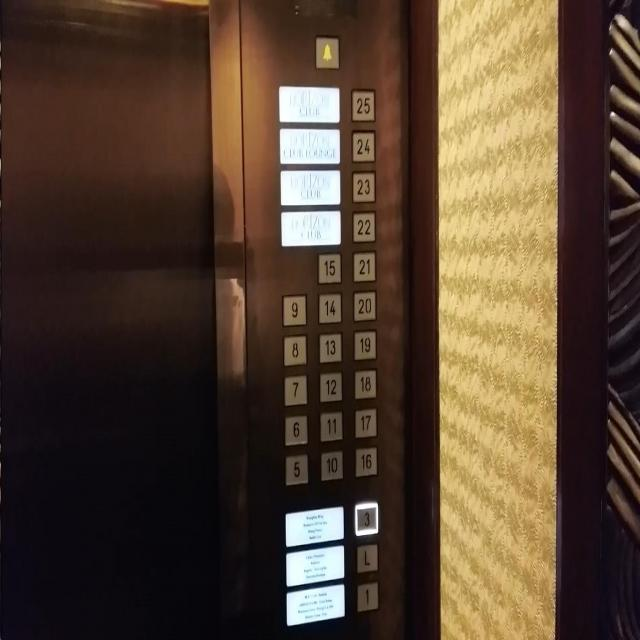1: (356, 579, 379, 612)
10: (319, 447, 343, 480)
11: (318, 407, 343, 441)
12: (318, 367, 342, 401)
13: (317, 329, 343, 363)
14: (316, 288, 342, 325)
15: (315, 247, 342, 285)
16: (353, 443, 378, 476)
17: (353, 403, 378, 439)
18: (352, 363, 378, 402)
19: (351, 326, 378, 361)
20: (351, 286, 378, 322)
21: (351, 246, 376, 282)
22: (351, 208, 376, 244)
23: (350, 167, 376, 204)
24: (350, 128, 376, 164)
25: (350, 84, 376, 122)
3: (352, 498, 379, 536)
5: (282, 449, 310, 487)
6: (282, 410, 309, 448)
7: (281, 369, 308, 407)
8: (280, 331, 308, 367)
9: (280, 289, 307, 328)
L: (355, 538, 379, 574)
alarm: (313, 33, 341, 71)
